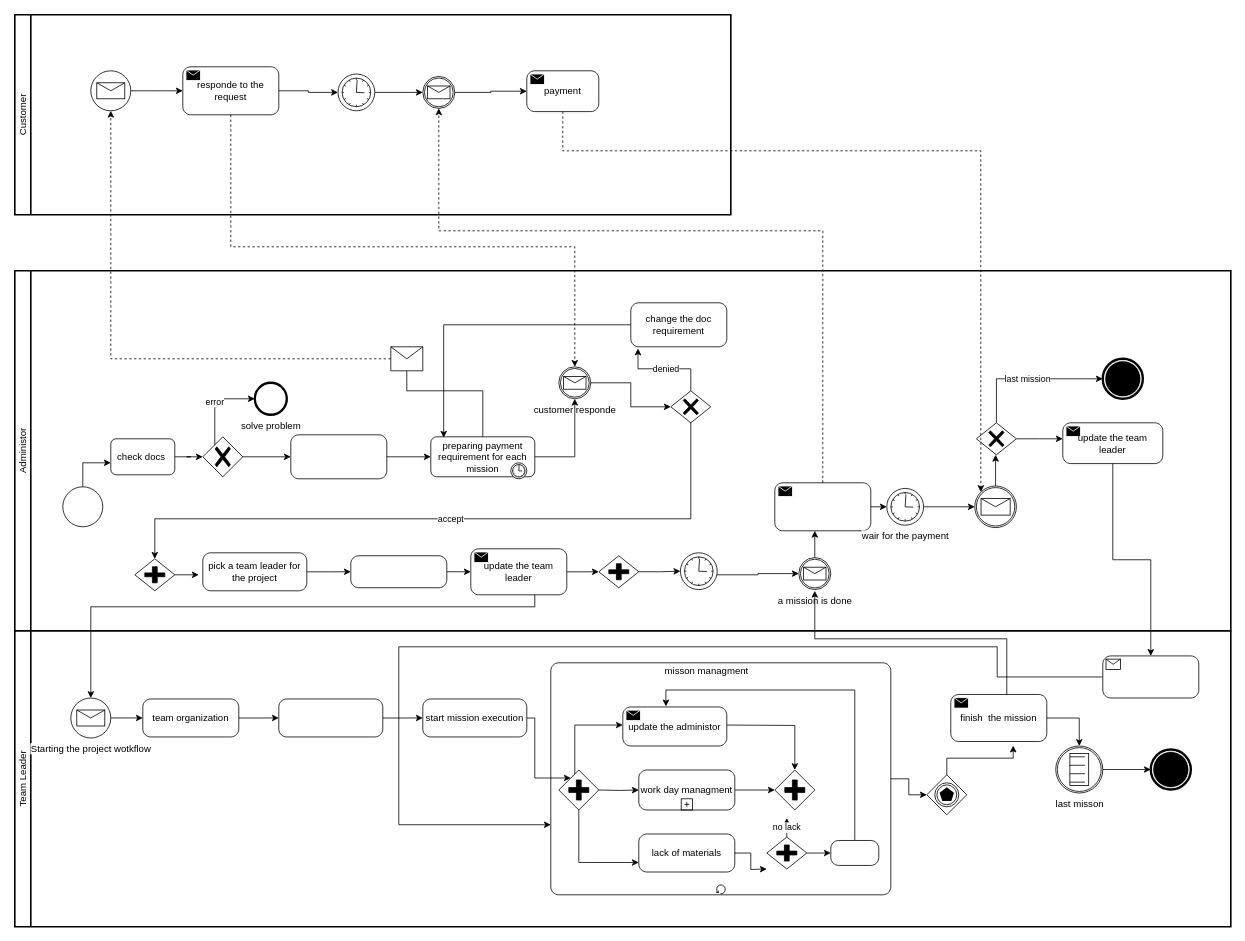
This 1245x941 diagram has some shape labels left out. The centre of each missing label's shape, as x and y in pixels:
Divide the projects to missions: point (338, 456)
handle materials order: point (330, 717)
order: point (854, 852)
order a bukding materials: point (398, 571)
payment massage: point (995, 506)
project work is done: point (1170, 769)
Receive a payments requirements: point (110, 90)
recieve an payment requirement: point (438, 92)
send a payment requirement: point (822, 506)
Start projesct execution: point (82, 506)
start the second mission execution: point (1150, 676)
